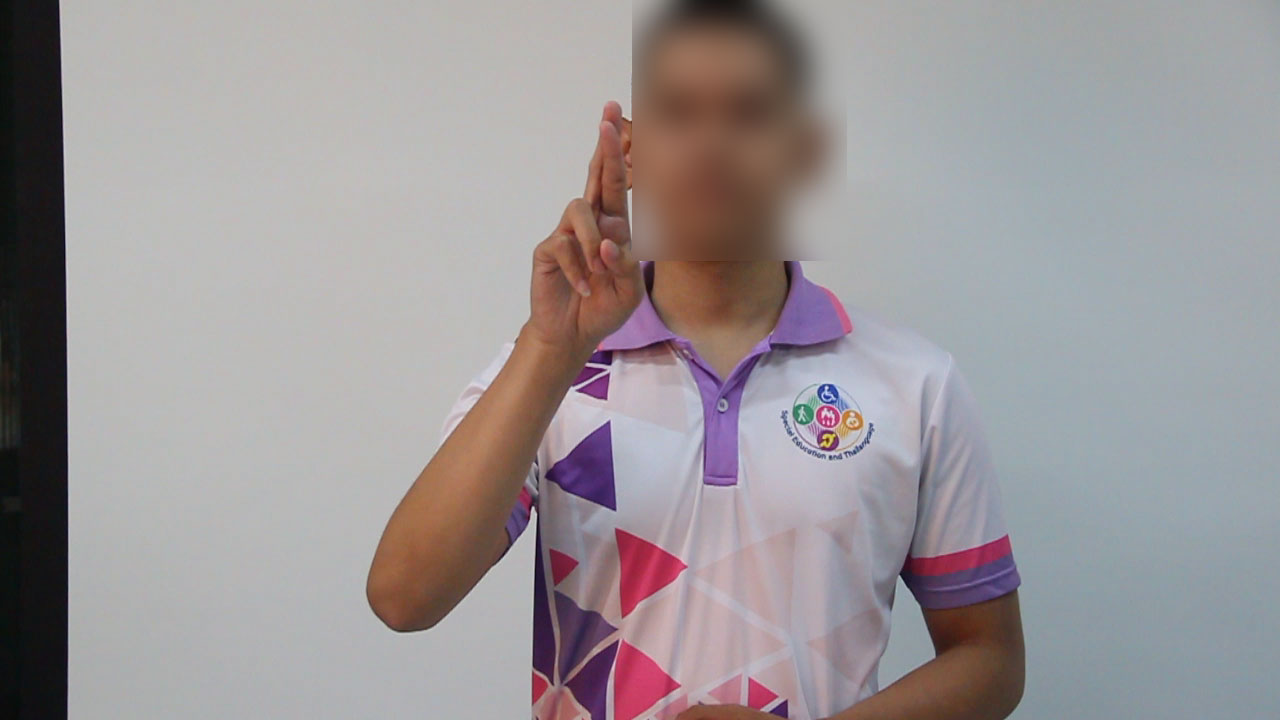rao: (496, 95, 648, 358)
